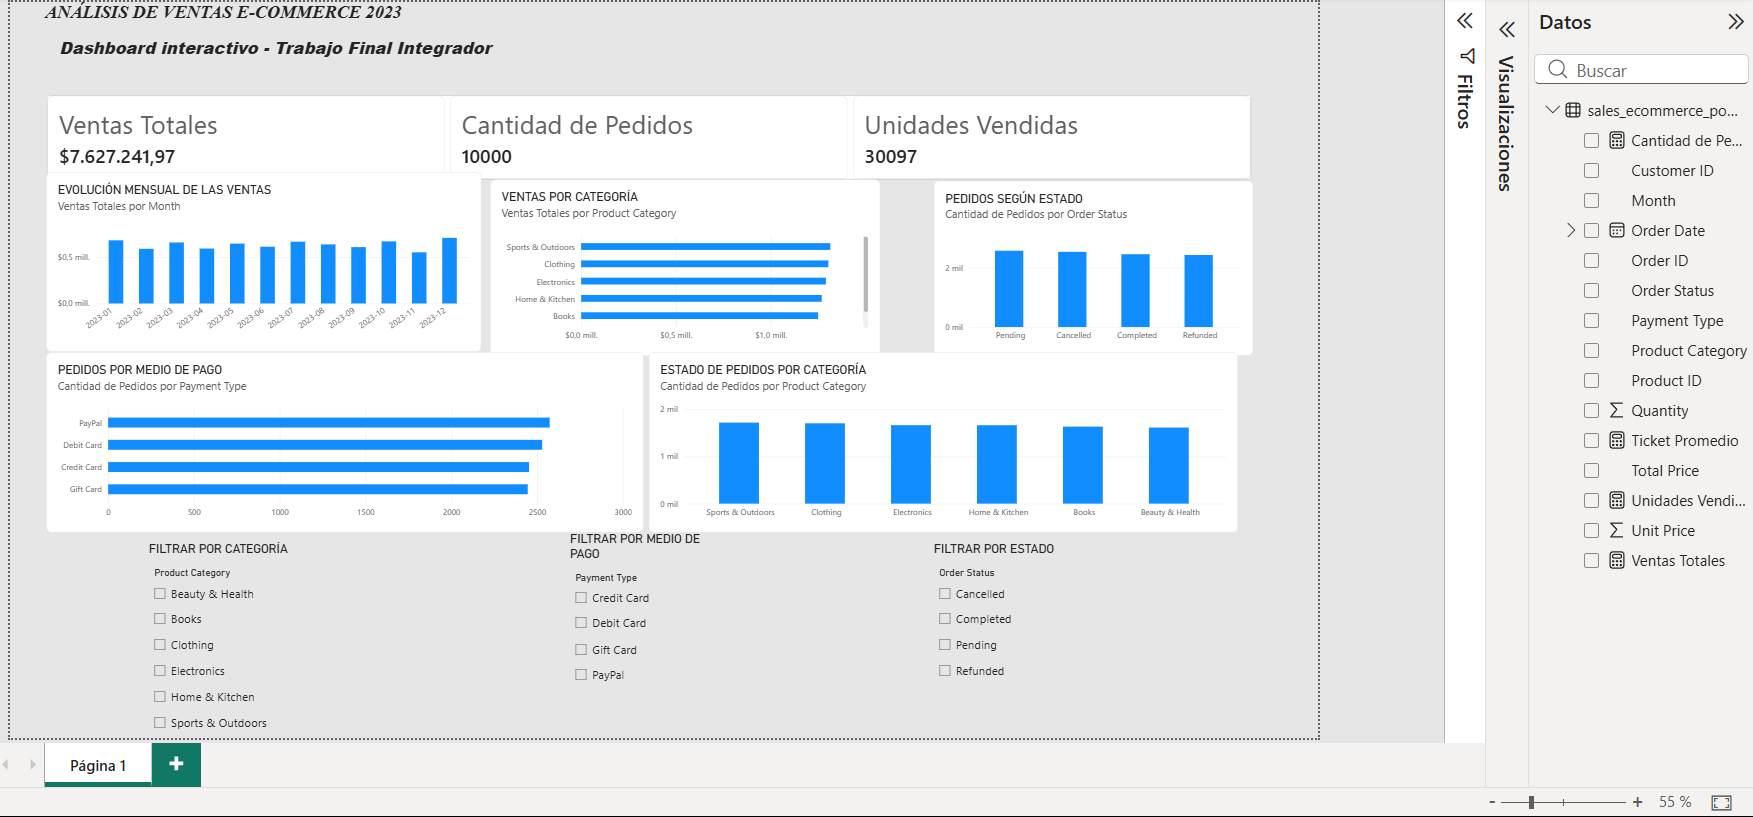

The page's visual inventory and layout, read from the dashboard file:
{"tool":"powerbi","page":{"name":"Página 1","canvas":[1920,1080],"ordinal":0},"visuals":[{"type":"cardVisual","fields":{"Data":["sales_ecommerce_powerbi.Ventas Totales","sales_ecommerce_powerbi.Cantidad de Pedidos","sales_ecommerce_powerbi.Unidades Vendidas"]},"box":[53.2,135.7,1770.1,126.6],"z":0},{"type":"lineClusteredColumnComboChart","title":"EVOLUCIÓN MENSUAL DE LAS VENTAS","fields":{"Category":["sales_ecommerce_powerbi.Month.Variación.Jerarquía de fechas.Año"],"Y":["sales_ecommerce_powerbi.Ventas Totales"]},"box":[53.2,249.5,638.3,264.1],"z":1000},{"type":"clusteredBarChart","title":"VENTAS POR CATEGORÍA","fields":{"Category":["sales_ecommerce_powerbi.Product Category"],"Y":["sales_ecommerce_powerbi.Ventas Totales"]},"box":[703.9,260.8,572.5,258.8],"z":2000},{"type":"clusteredColumnChart","title":"PEDIDOS SEGÚN ESTADO","fields":{"Category":["sales_ecommerce_powerbi.Order Status"],"Y":["sales_ecommerce_powerbi.Cantidad de Pedidos"]},"box":[1354.9,262.7,468.6,256.9],"z":3000},{"type":"clusteredBarChart","title":"PEDIDOS POR MEDIO DE PAGO","fields":{"Category":["sales_ecommerce_powerbi.Payment Type"],"Y":["sales_ecommerce_powerbi.Cantidad de Pedidos"]},"box":[52.9,513.7,876.5,264.7],"z":4000},{"type":"columnChart","title":"ESTADO DE PEDIDOS POR CATEGORÍA","fields":{"Category":["sales_ecommerce_powerbi.Product Category"],"Y":["sales_ecommerce_powerbi.Cantidad de Pedidos"]},"box":[937.3,513.7,864.7,264.7],"z":5000},{"type":"slicer","title":"FILTRAR POR CATEGORÍA","fields":{"Values":["sales_ecommerce_powerbi.Product Category"]},"box":[203.9,792.2,237.3,288.2],"z":6000},{"type":"slicer","title":"FILTRAR POR MEDIO DE PAGO","fields":{"Values":["sales_ecommerce_powerbi.Payment Type"]},"box":[821.6,778.4,215.7,245.1],"z":6001},{"type":"slicer","title":"FILTRAR POR ESTADO","fields":{"Values":["sales_ecommerce_powerbi.Order Status"]},"box":[1354.9,792.2,256.9,219.6],"z":6002},{"type":"textbox","box":[52,792,150,288],"z":6003},{"type":"textbox","box":[31.4,0,564.7,49],"z":6004},{"type":"textbox","box":[31.4,49,715.7,47.1],"z":6005}]}

Visuals, with their boxes on the page's 1920x1080 design canvas (x1, y1, x2, y2). These are canvas units, not pixel positions in the 1753x817 screenshot, which may show the page scaled, cropped or inside an application window:
cardVisual - sales_ecommerce_powerbi.Ventas Totales x sales_ecommerce_powerbi.Cantidad de Pedidos: <region>53, 136, 1823, 262</region>
"EVOLUCIÓN MENSUAL DE LAS VENTAS" lineClusteredColumnComboChart: <region>53, 250, 692, 514</region>
"VENTAS POR CATEGORÍA" clusteredBarChart: <region>704, 261, 1276, 520</region>
"PEDIDOS SEGÚN ESTADO" clusteredColumnChart: <region>1355, 263, 1824, 520</region>
"PEDIDOS POR MEDIO DE PAGO" clusteredBarChart: <region>53, 514, 929, 778</region>
"ESTADO DE PEDIDOS POR CATEGORÍA" columnChart: <region>937, 514, 1802, 778</region>
"FILTRAR POR CATEGORÍA" slicer: <region>204, 792, 441, 1080</region>
"FILTRAR POR MEDIO DE PAGO" slicer: <region>822, 778, 1037, 1024</region>
"FILTRAR POR ESTADO" slicer: <region>1355, 792, 1612, 1012</region>
textbox: <region>52, 792, 202, 1080</region>
textbox: <region>31, 0, 596, 49</region>
textbox: <region>31, 49, 747, 96</region>
